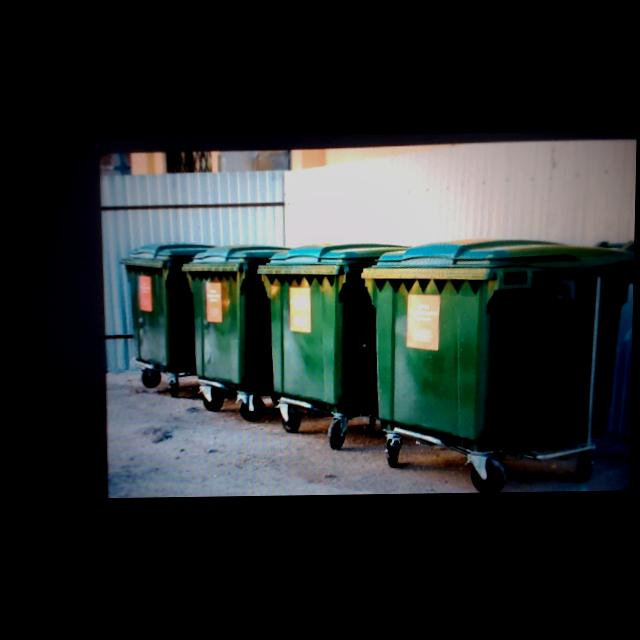Trash_Can_Closed: (360, 238, 636, 456), (255, 243, 412, 414), (179, 243, 293, 394), (119, 243, 217, 373)
